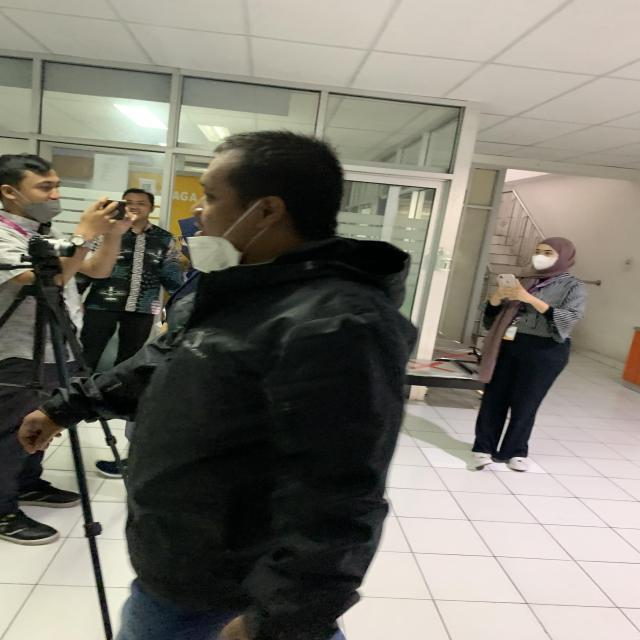hairnet: (165, 138, 374, 274)
